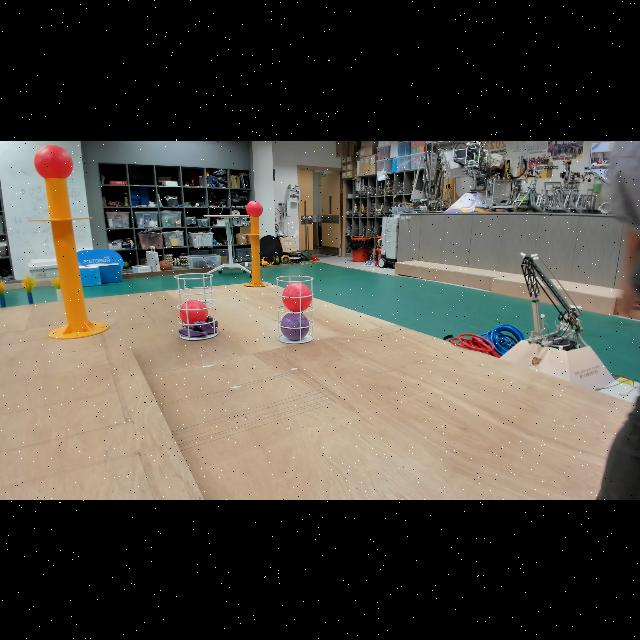P: (278, 310, 312, 344)
R: (32, 141, 74, 181), (280, 278, 314, 312), (178, 298, 210, 326), (244, 198, 264, 218)
S: (174, 272, 218, 341), (276, 274, 314, 344)
